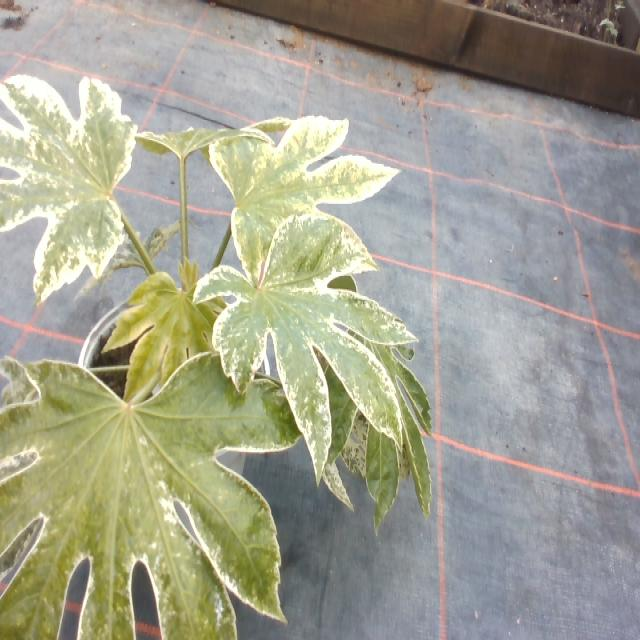Fatsia-japonica: (1, 346, 312, 640), (193, 208, 416, 467), (0, 68, 139, 299), (193, 117, 398, 268), (105, 267, 238, 411), (131, 112, 273, 178)
